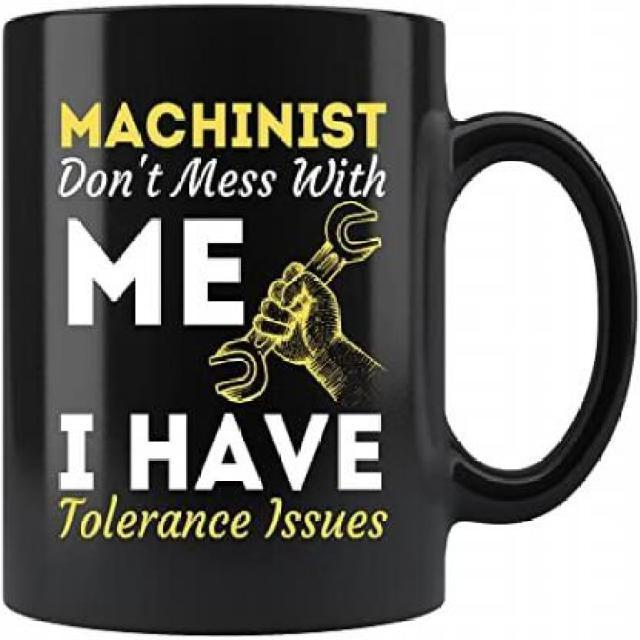taza: (0, 3, 636, 639)
